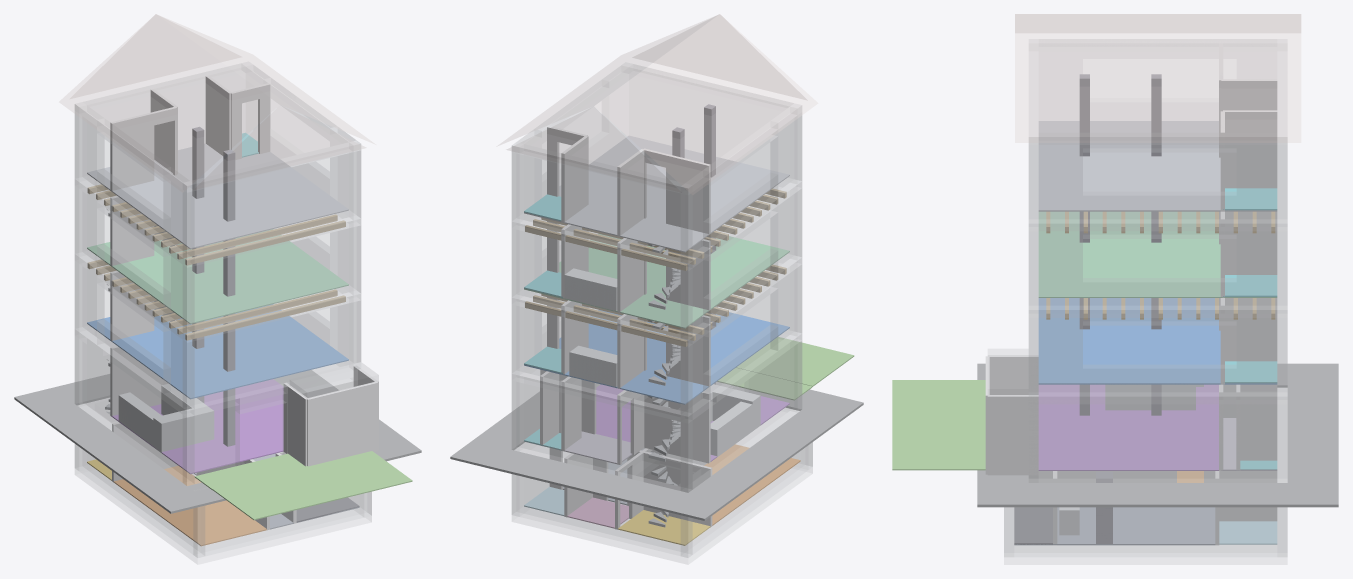
File: house.glb
The picture shows the model from 3 angles, left to right: view 1: azimuth 30°, elevation 25°; view 2: azimuth 150°, elevation 25°; view 3: azimuth 270°, elevation 25°; orthographic projection. The views are drawn at different scales.
Parts seen in each view (by area): view 1: Dach/Roof, OG3/Shell, OG2/Shell, OG1/Shell, Dach/Slabs, EG/RoomPads, EG/Shell, OG3/RoomPads, OG1/RoomPads, OG2/RoomPads, Umgebung/Site, EG/Interior (+17 smaller); view 2: Dach/Roof, OG3/Shell, EG/Shell, OG2/Shell, OG1/Shell, Dach/Slabs, Umgebung/Site, UG/Shell, OG3/RoomPads, OG3/Interior, EG/Interior, EG/RoomPads (+20 smaller); view 3: Dach/Roof, EG/RoomPads, Dach/Slabs, EG/Shell, OG3/Shell, OG3/RoomPads, OG2/Shell, OG1/Shell, Umgebung/Site, OG1/RoomPads, OG2/RoomPads, UG/Shell (+17 smaller).
Boxes of the visible parts, x1,y1,x2,y2 form: Dach/Roof: (60,14,373,191); OG3/Shell: (74,62,361,260); OG2/Shell: (74,179,361,335); OG1/Shell: (74,253,361,410); Dach/Slabs: (81,68,358,191); EG/RoomPads: (111,379,412,520); EG/Shell: (74,329,357,485); OG3/RoomPads: (87,133,348,249); OG1/RoomPads: (87,304,348,399); OG2/RoomPads: (87,229,348,324); Umgebung/Site: (14,370,421,513); EG/Interior: (110,346,378,466); Dach/Roof: (498,14,817,194); OG3/Shell: (511,62,802,264); EG/Shell: (511,332,802,492); OG2/Shell: (511,181,802,340); OG1/Shell: (511,258,802,416); Dach/Slabs: (514,66,796,194); Umgebung/Site: (450,382,863,520); UG/Shell: (511,442,812,557); OG3/RoomPads: (524,135,789,252); OG3/Interior: (547,126,710,236); EG/Interior: (540,306,717,464); EG/RoomPads: (524,337,854,463); Dach/Roof: (1015,14,1300,142); EG/RoomPads: (892,380,1277,470); Dach/Slabs: (1029,39,1286,144); EG/Shell: (1028,396,1287,482); OG3/Shell: (1029,39,1287,223); OG3/RoomPads: (1038,121,1277,211); OG2/Shell: (1028,220,1287,309); OG1/Shell: (1028,308,1287,396); Umgebung/Site: (977,363,1338,507); OG1/RoomPads: (1038,298,1277,384); OG2/RoomPads: (1038,211,1277,297); UG/Shell: (1004,482,1287,557).
Size of the model in its own units: 9.8 by 16.25 by 13.1.
